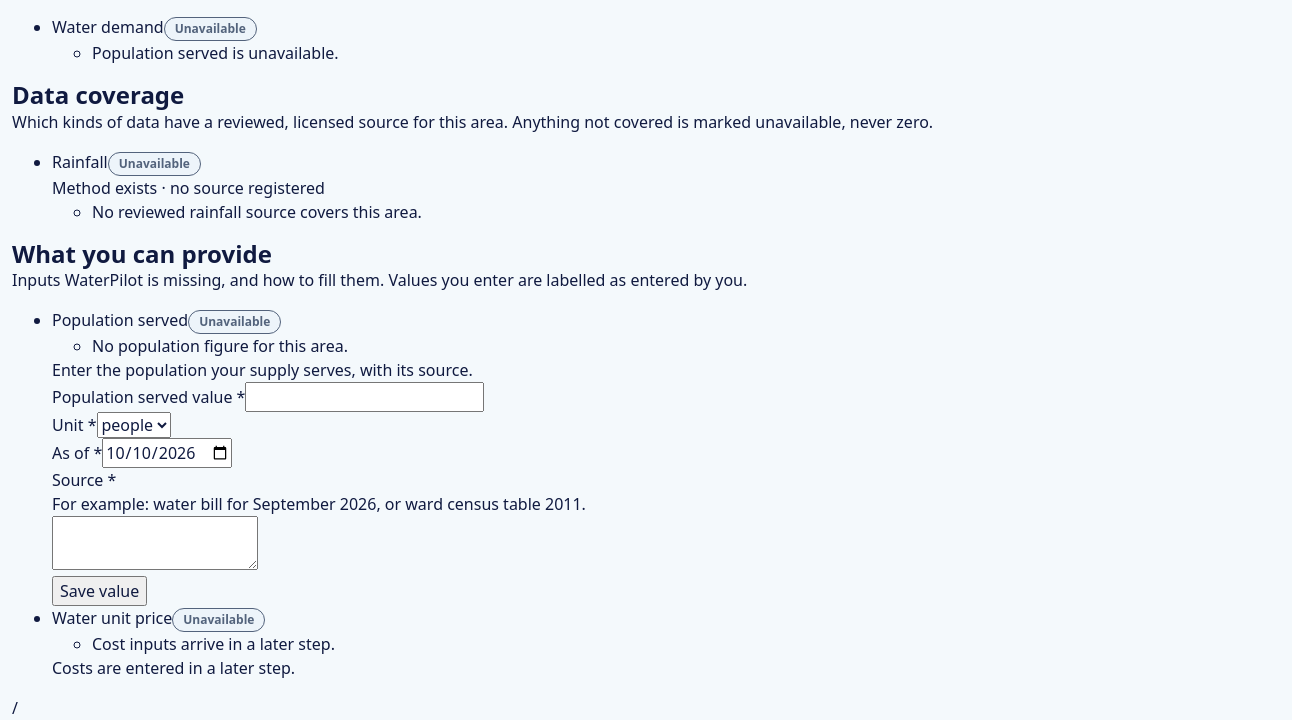
AreaPage › saves a manual value with one idempotency key across a retry and refreshes
(page scrolled)
Type "12000" into the field labelled "Population served value *".
click(365, 397); type("12000")  # box [245,382,484,412]
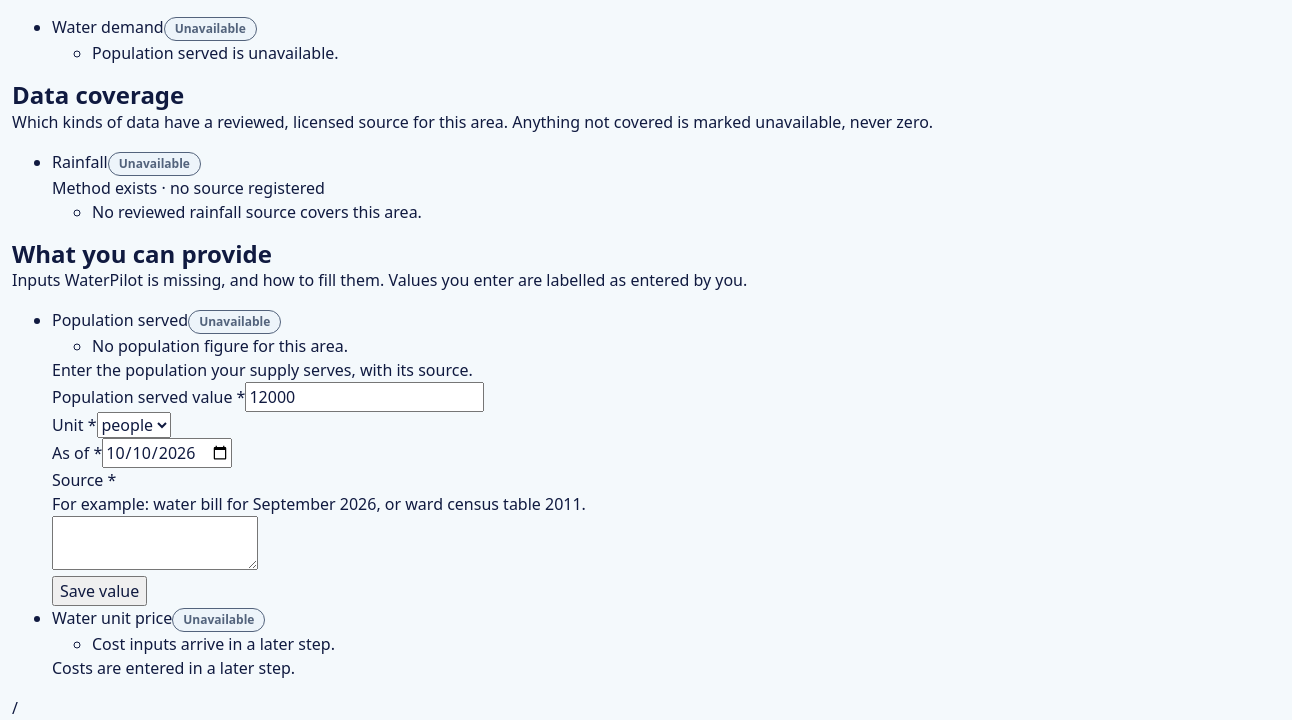
Type "Ward census table" into the text box labelled "Source *".
click(155, 543); type("Ward census table")  # box [52,516,258,570]
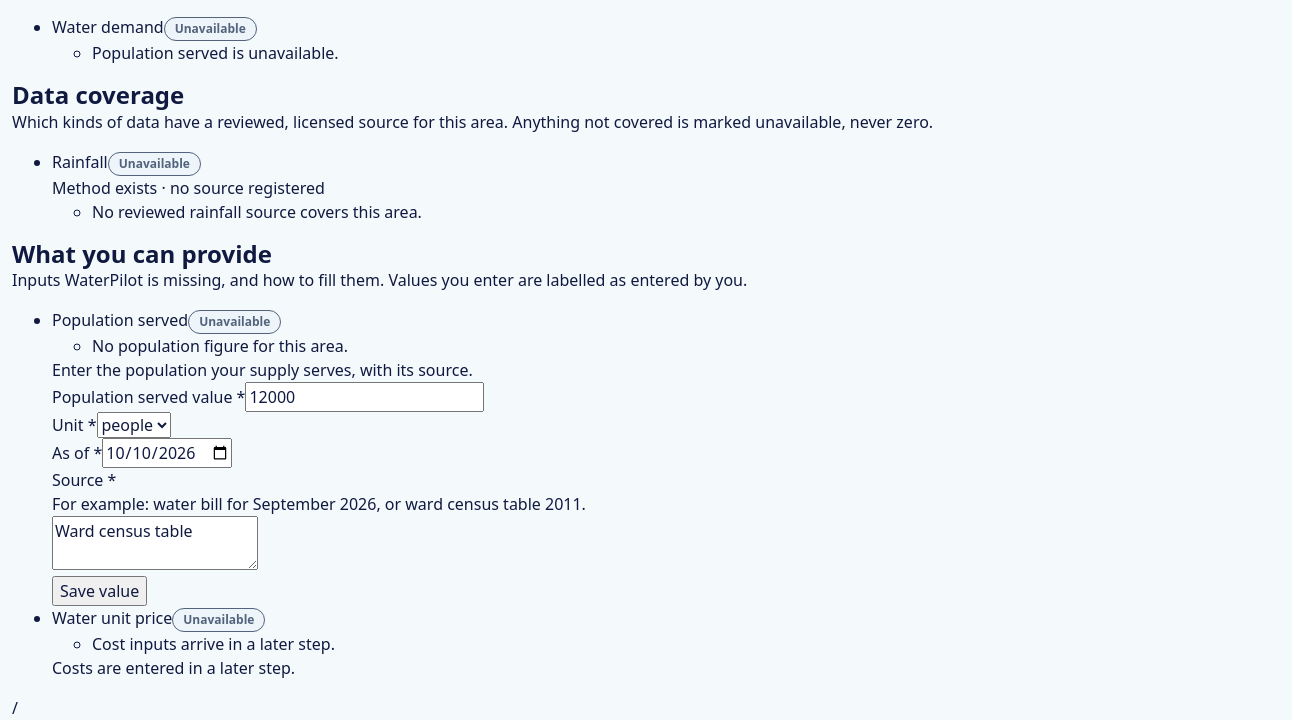
Click the button "Save value".
click(100, 591)  # box [52,576,147,606]
(page scrolled)
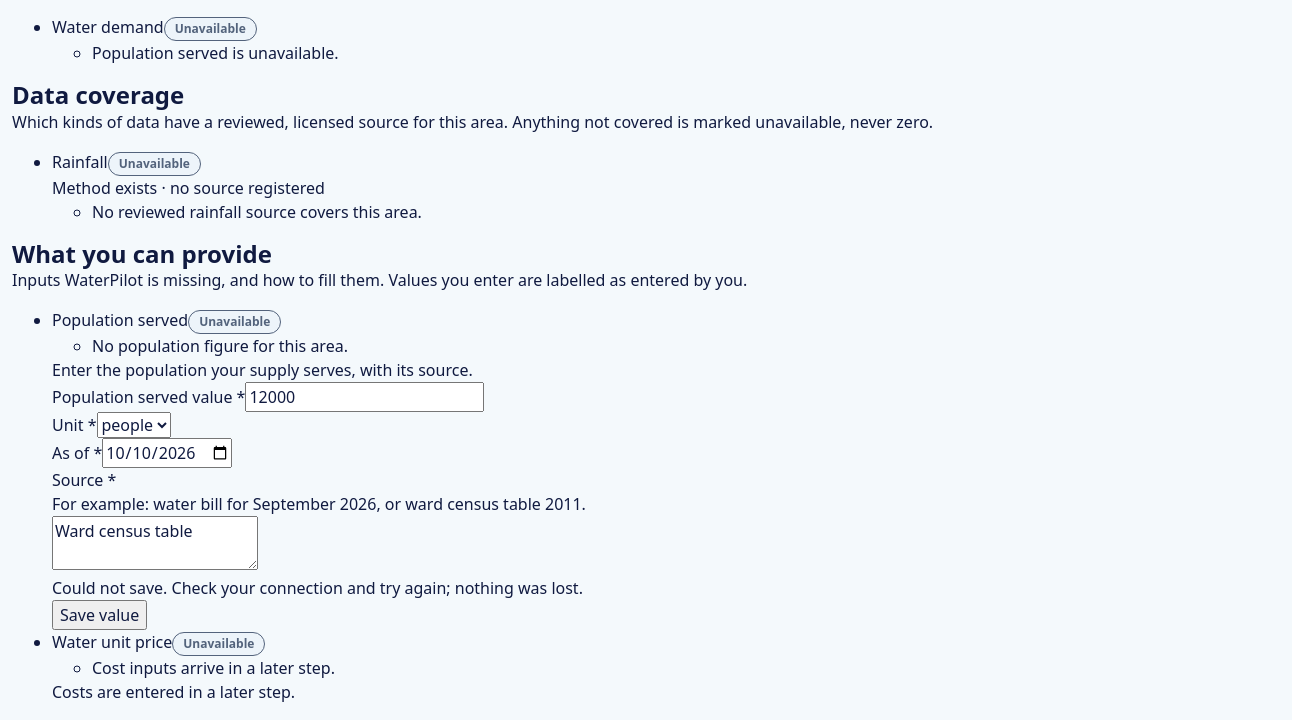
Result: the message shows "nothing was lost" at [52,577,583,599]
Click the button "Save value".
click(100, 615)  # box [52,600,147,630]
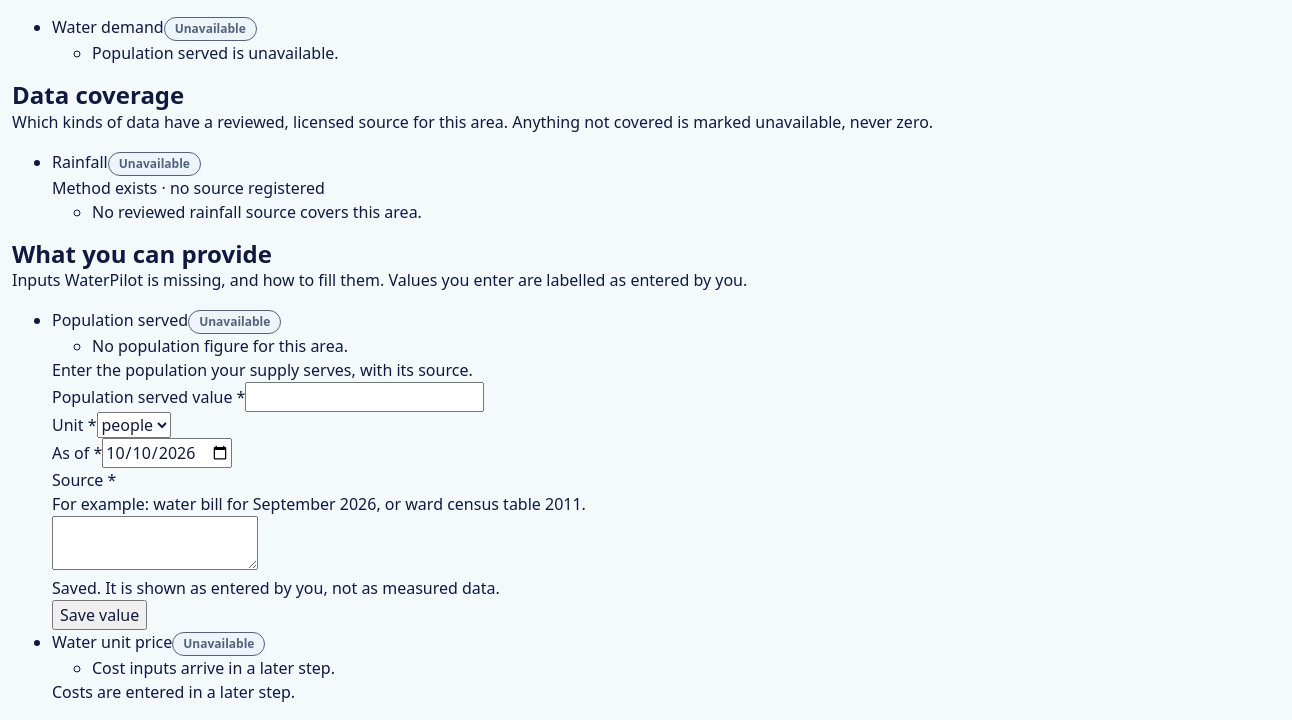
Result: the text "Saved. It is shown as entered by you, not as measured data." is shown at [52,577,500,599]
